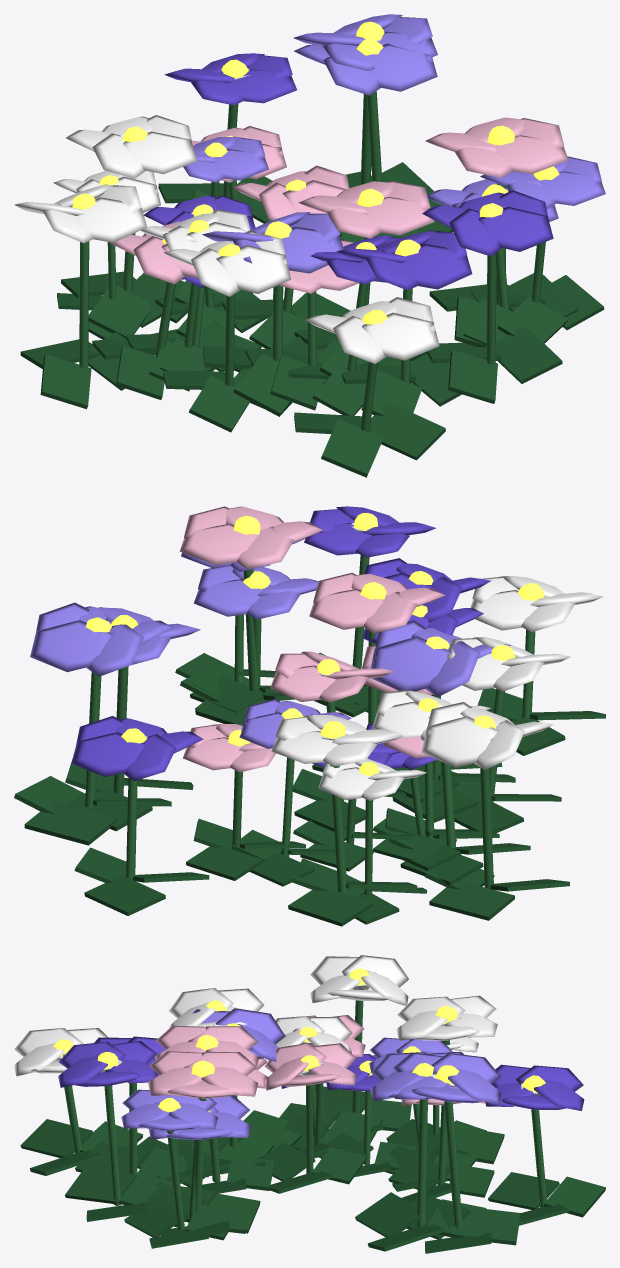
The model's file is flower-cluster-b.glb.
3 views of the same model, one above another, from view 1: azimuth 30°, elevation 25°; view 2: azimuth 150°, elevation 25°; view 3: azimuth 270°, elevation 25° (orthographic). The views are drawn at different scales.
Visible parts, largest first — view 1: FlowerCluster_LavenderPink_darkLeaf, FlowerCluster_LavenderPink_flowerWhite, FlowerCluster_LavenderPink_flowerLavender, FlowerCluster_LavenderPink_flowerPink, FlowerCluster_LavenderPink_flowerViolet, FlowerCluster_LavenderPink_stemGreen, FlowerCluster_LavenderPink_flowerCenterGold; view 2: FlowerCluster_LavenderPink_darkLeaf, FlowerCluster_LavenderPink_flowerWhite, FlowerCluster_LavenderPink_flowerLavender, FlowerCluster_LavenderPink_flowerPink, FlowerCluster_LavenderPink_flowerViolet, FlowerCluster_LavenderPink_stemGreen, FlowerCluster_LavenderPink_flowerCenterGold; view 3: FlowerCluster_LavenderPink_darkLeaf, FlowerCluster_LavenderPink_flowerWhite, FlowerCluster_LavenderPink_flowerLavender, FlowerCluster_LavenderPink_flowerPink, FlowerCluster_LavenderPink_stemGreen, FlowerCluster_LavenderPink_flowerViolet, FlowerCluster_LavenderPink_flowerCenterGold.
Boxes of the visible parts, x1,y1,x2,y2 form: FlowerCluster_LavenderPink_darkLeaf: (20, 162, 604, 477); FlowerCluster_LavenderPink_flowerWhite: (14, 115, 439, 363); FlowerCluster_LavenderPink_flowerLavender: (183, 14, 605, 273); FlowerCluster_LavenderPink_flowerPink: (108, 117, 568, 293); FlowerCluster_LavenderPink_flowerViolet: (144, 53, 553, 290); FlowerCluster_LavenderPink_stemGreen: (79, 91, 545, 431); FlowerCluster_LavenderPink_flowerCenterGold: (72, 21, 559, 324); FlowerCluster_LavenderPink_darkLeaf: (14, 652, 605, 926); FlowerCluster_LavenderPink_flowerWhite: (271, 576, 603, 800); FlowerCluster_LavenderPink_flowerLavender: (30, 538, 511, 748); FlowerCluster_LavenderPink_flowerPink: (179, 506, 445, 772); FlowerCluster_LavenderPink_flowerViolet: (71, 506, 491, 781); FlowerCluster_LavenderPink_stemGreen: (85, 555, 535, 894); FlowerCluster_LavenderPink_flowerCenterGold: (85, 513, 544, 776); FlowerCluster_LavenderPink_darkLeaf: (20, 1086, 605, 1253); FlowerCluster_LavenderPink_flowerWhite: (14, 955, 497, 1076); FlowerCluster_LavenderPink_flowerLavender: (121, 1008, 501, 1140); FlowerCluster_LavenderPink_flowerPink: (148, 1015, 485, 1105); FlowerCluster_LavenderPink_stemGreen: (64, 1000, 546, 1229); FlowerCluster_LavenderPink_flowerViolet: (58, 1036, 584, 1110); FlowerCluster_LavenderPink_flowerCenterGold: (53, 968, 545, 1112).
Bounding box in the file's own units: 1.18 × 0.5723 × 1.49.
